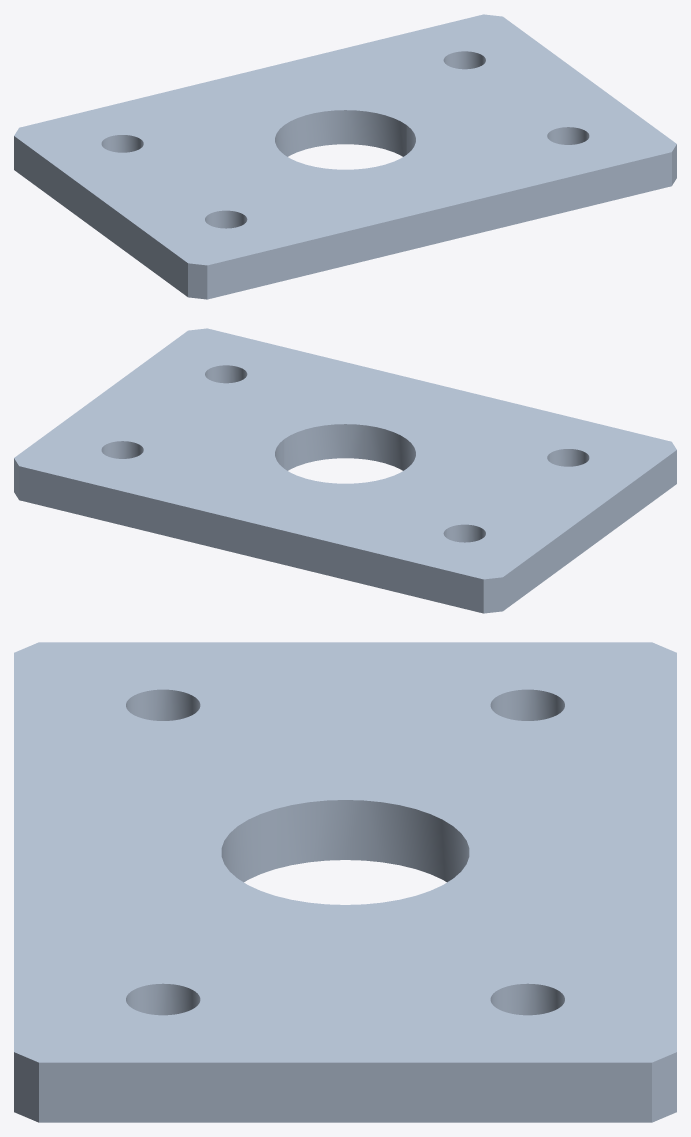
3 renders of one model, top to bottom at view 1: azimuth 30°, elevation 25°; view 2: azimuth 150°, elevation 25°; view 3: azimuth 270°, elevation 25°, orthographic. The views are drawn at different scales.
Visible parts, largest first — view 1: part; view 2: part; view 3: part.
Part boxes in pixels (box(x1,y1,x2,y2)): part: box(14, 14, 676, 299); part: box(14, 328, 676, 613); part: box(14, 642, 676, 1122).
Size of the model in its own units: 120 by 8 by 80.
